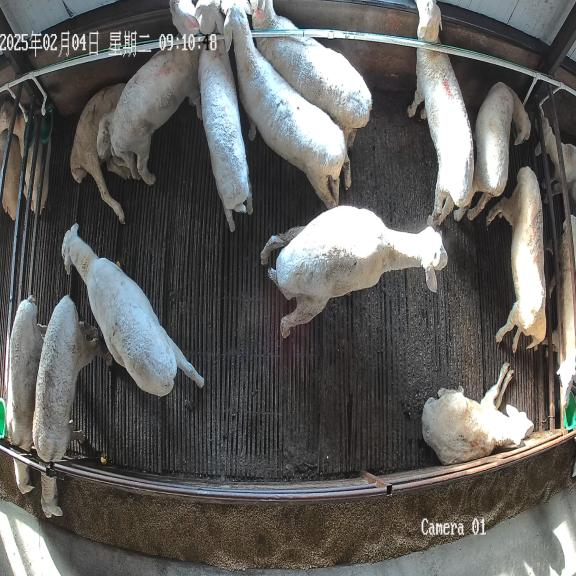drinking: (467, 82, 530, 220)
eating: (32, 295, 113, 517), (6, 295, 46, 494)
lying: (422, 363, 533, 465), (70, 83, 134, 223)
stand: (220, 0, 346, 208), (61, 224, 204, 397), (261, 205, 447, 338), (97, 0, 202, 185), (250, 0, 372, 151), (407, 0, 474, 227), (195, 0, 252, 232), (487, 166, 546, 353)
